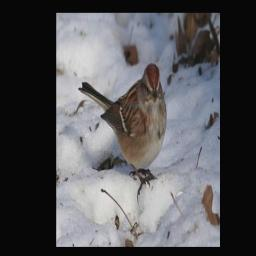Sparrow: (77, 58, 168, 206)
